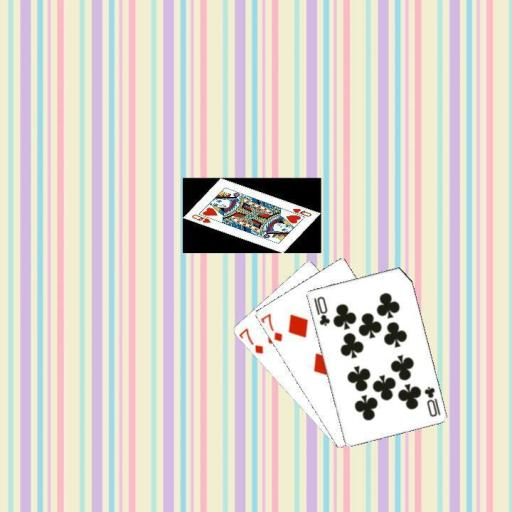card-corner: (236, 324, 265, 356), (258, 310, 284, 344), (421, 383, 442, 418), (310, 293, 331, 327)
